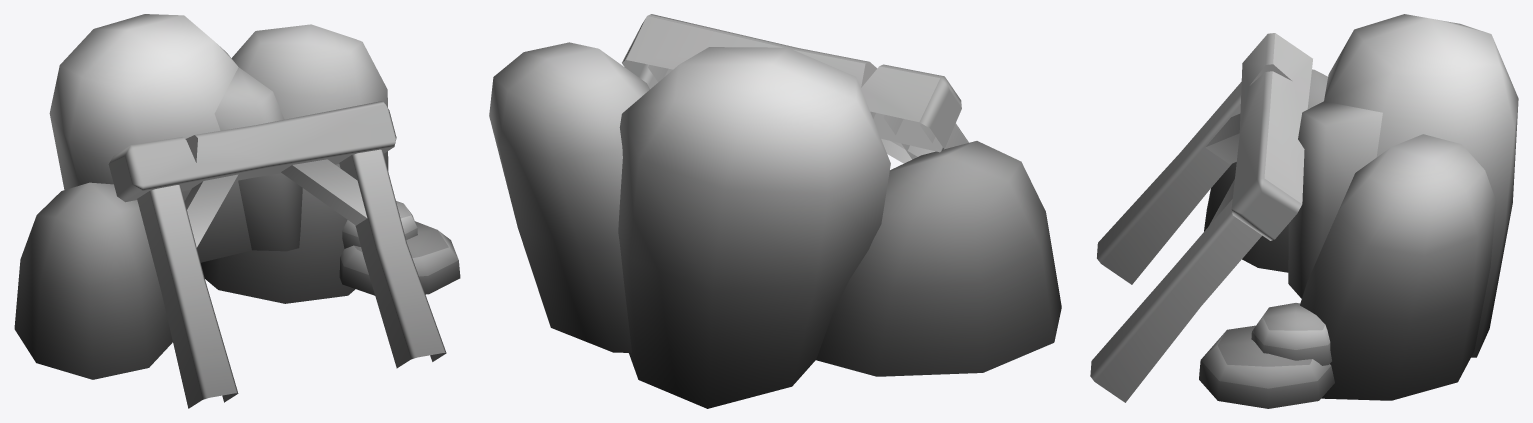
Rendered from Mine_Base.fbx.
3 renders of one model, left to right at view 1: azimuth 30°, elevation 25°; view 2: azimuth 150°, elevation 25°; view 3: azimuth 270°, elevation 25°, orthographic. The views are drawn at different scales.
Visible parts, largest first — view 1: Mine_Base, Mine_Base_Wood; view 2: Mine_Base, Mine_Base_Wood; view 3: Mine_Base, Mine_Base_Wood.
Part boxes in pixels (x1=…): Mine_Base: x1=14, y1=14, x2=460, y2=379; Mine_Base_Wood: x1=108, y1=101, x2=446, y2=408; Mine_Base: x1=489, y1=42, x2=1061, y2=408; Mine_Base_Wood: x1=622, y1=14, x2=968, y2=163; Mine_Base: x1=1199, y1=14, x2=1518, y2=408; Mine_Base_Wood: x1=1090, y1=33, x2=1312, y2=402.
Bounding box in the file's own units: 0.981 × 0.6144 × 0.8045.
